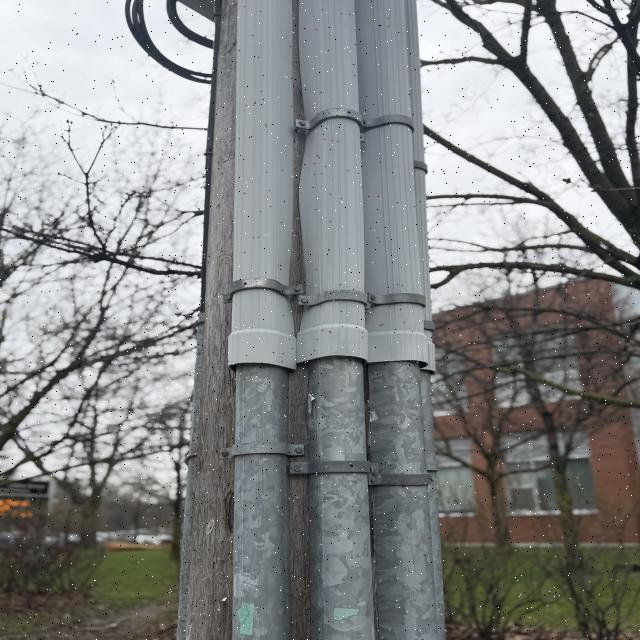Electrical Pole: (148, 2, 450, 639)
